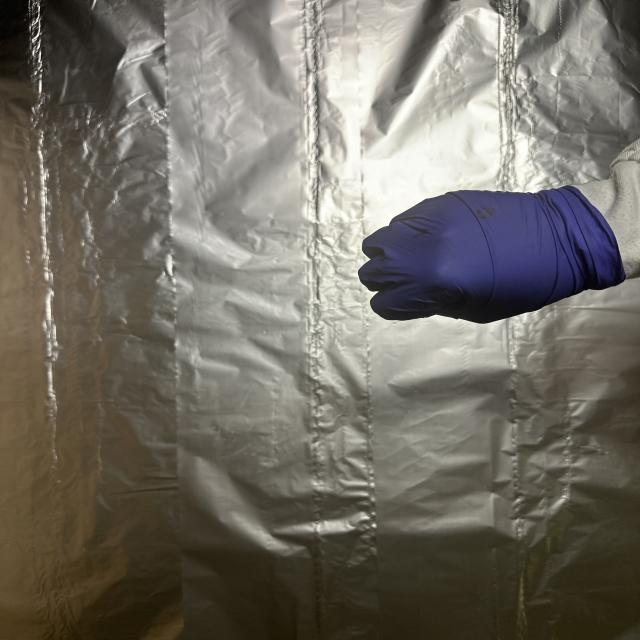gloves_contaminated: (358, 187, 626, 323)
